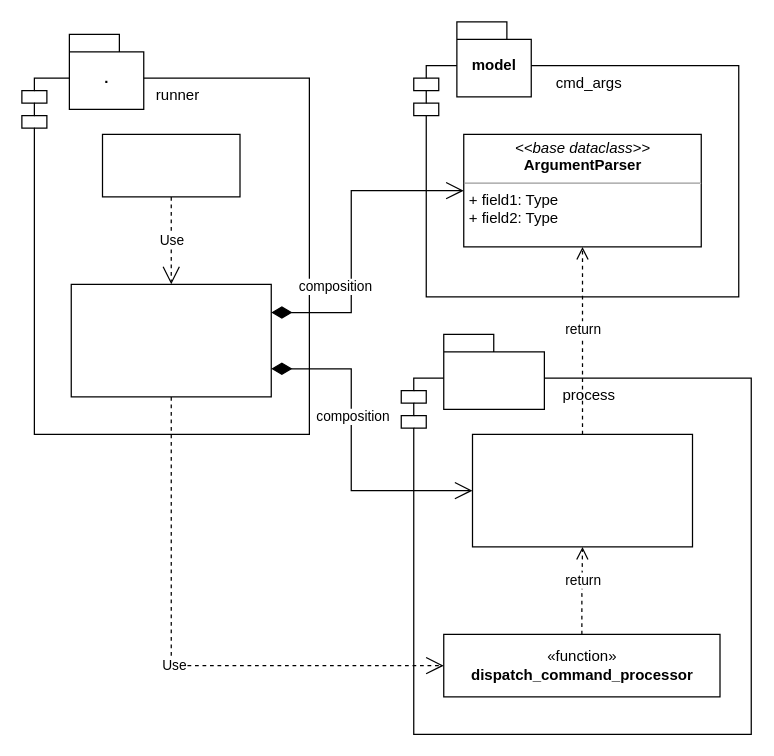
Image size: 774x756. Some labels were removed from this diagram. Each missing label, with the centre of its shape:
"command" goes at point (493, 371).
"CommandProcessor + field: Type + method(): Type" goes at point (581, 490).
"CommandRunner + field: Type + method(): Type" goes at point (170, 340).
"«function» run" goes at point (170, 165).
